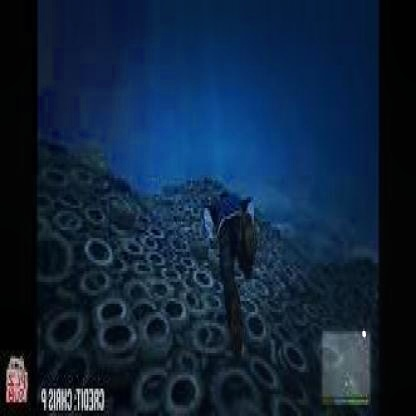tire: (162, 347, 217, 416), (86, 296, 134, 372), (134, 298, 180, 362), (158, 282, 201, 350), (84, 228, 112, 288), (248, 306, 278, 348)
